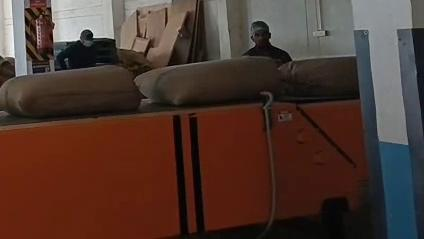box: (0, 65, 141, 118), (136, 57, 282, 106), (280, 56, 357, 96)
